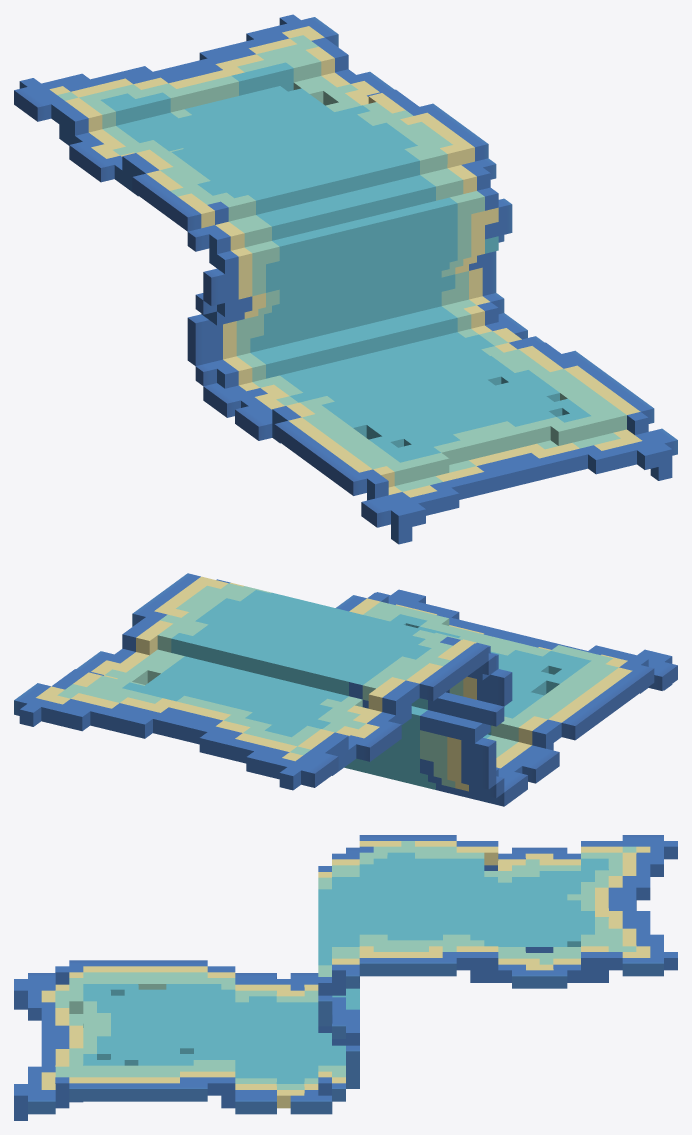
The model's file is Cloth.fbx.
3 views of the same model, one above another, from view 1: azimuth 30°, elevation 25°; view 2: azimuth 150°, elevation 25°; view 3: azimuth 270°, elevation 25° (orthographic). The views are drawn at different scales.
Visible parts, largest first — view 1: Cloth Patch Cleaned; view 2: Cloth Patch Cleaned; view 3: Cloth Patch Cleaned.
Part boxes in pixels (<box>): Cloth Patch Cleaned: <box>14,14,677,544</box>; Cloth Patch Cleaned: <box>14,573,677,806</box>; Cloth Patch Cleaned: <box>14,835,677,1120</box>.
Size of the model in its own units: 220 by 130 by 480.
